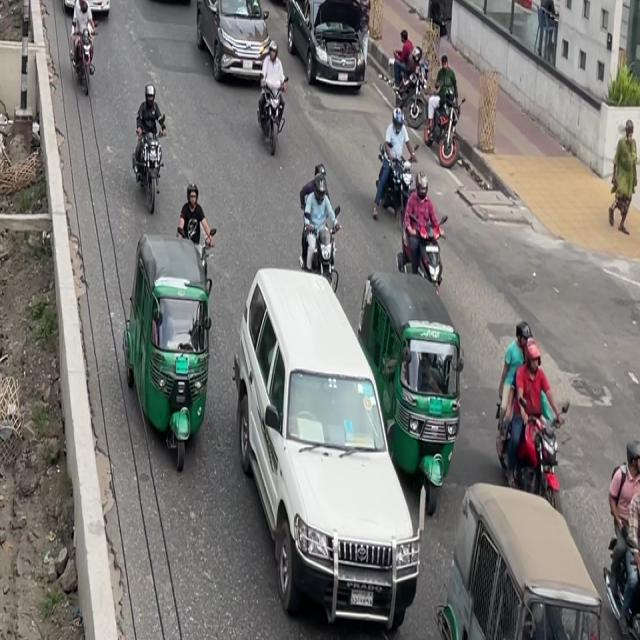car: (217, 260, 445, 620), (193, 0, 298, 94), (278, 0, 381, 86), (130, 0, 197, 32), (46, 0, 123, 24)
motorbike: (486, 297, 570, 506), (378, 156, 452, 270), (134, 67, 178, 212), (250, 40, 295, 158), (379, 25, 430, 127), (428, 35, 464, 172), (372, 105, 414, 210), (60, 0, 104, 86)
rickshaw: (347, 197, 465, 479), (124, 205, 239, 472), (436, 467, 600, 640)
